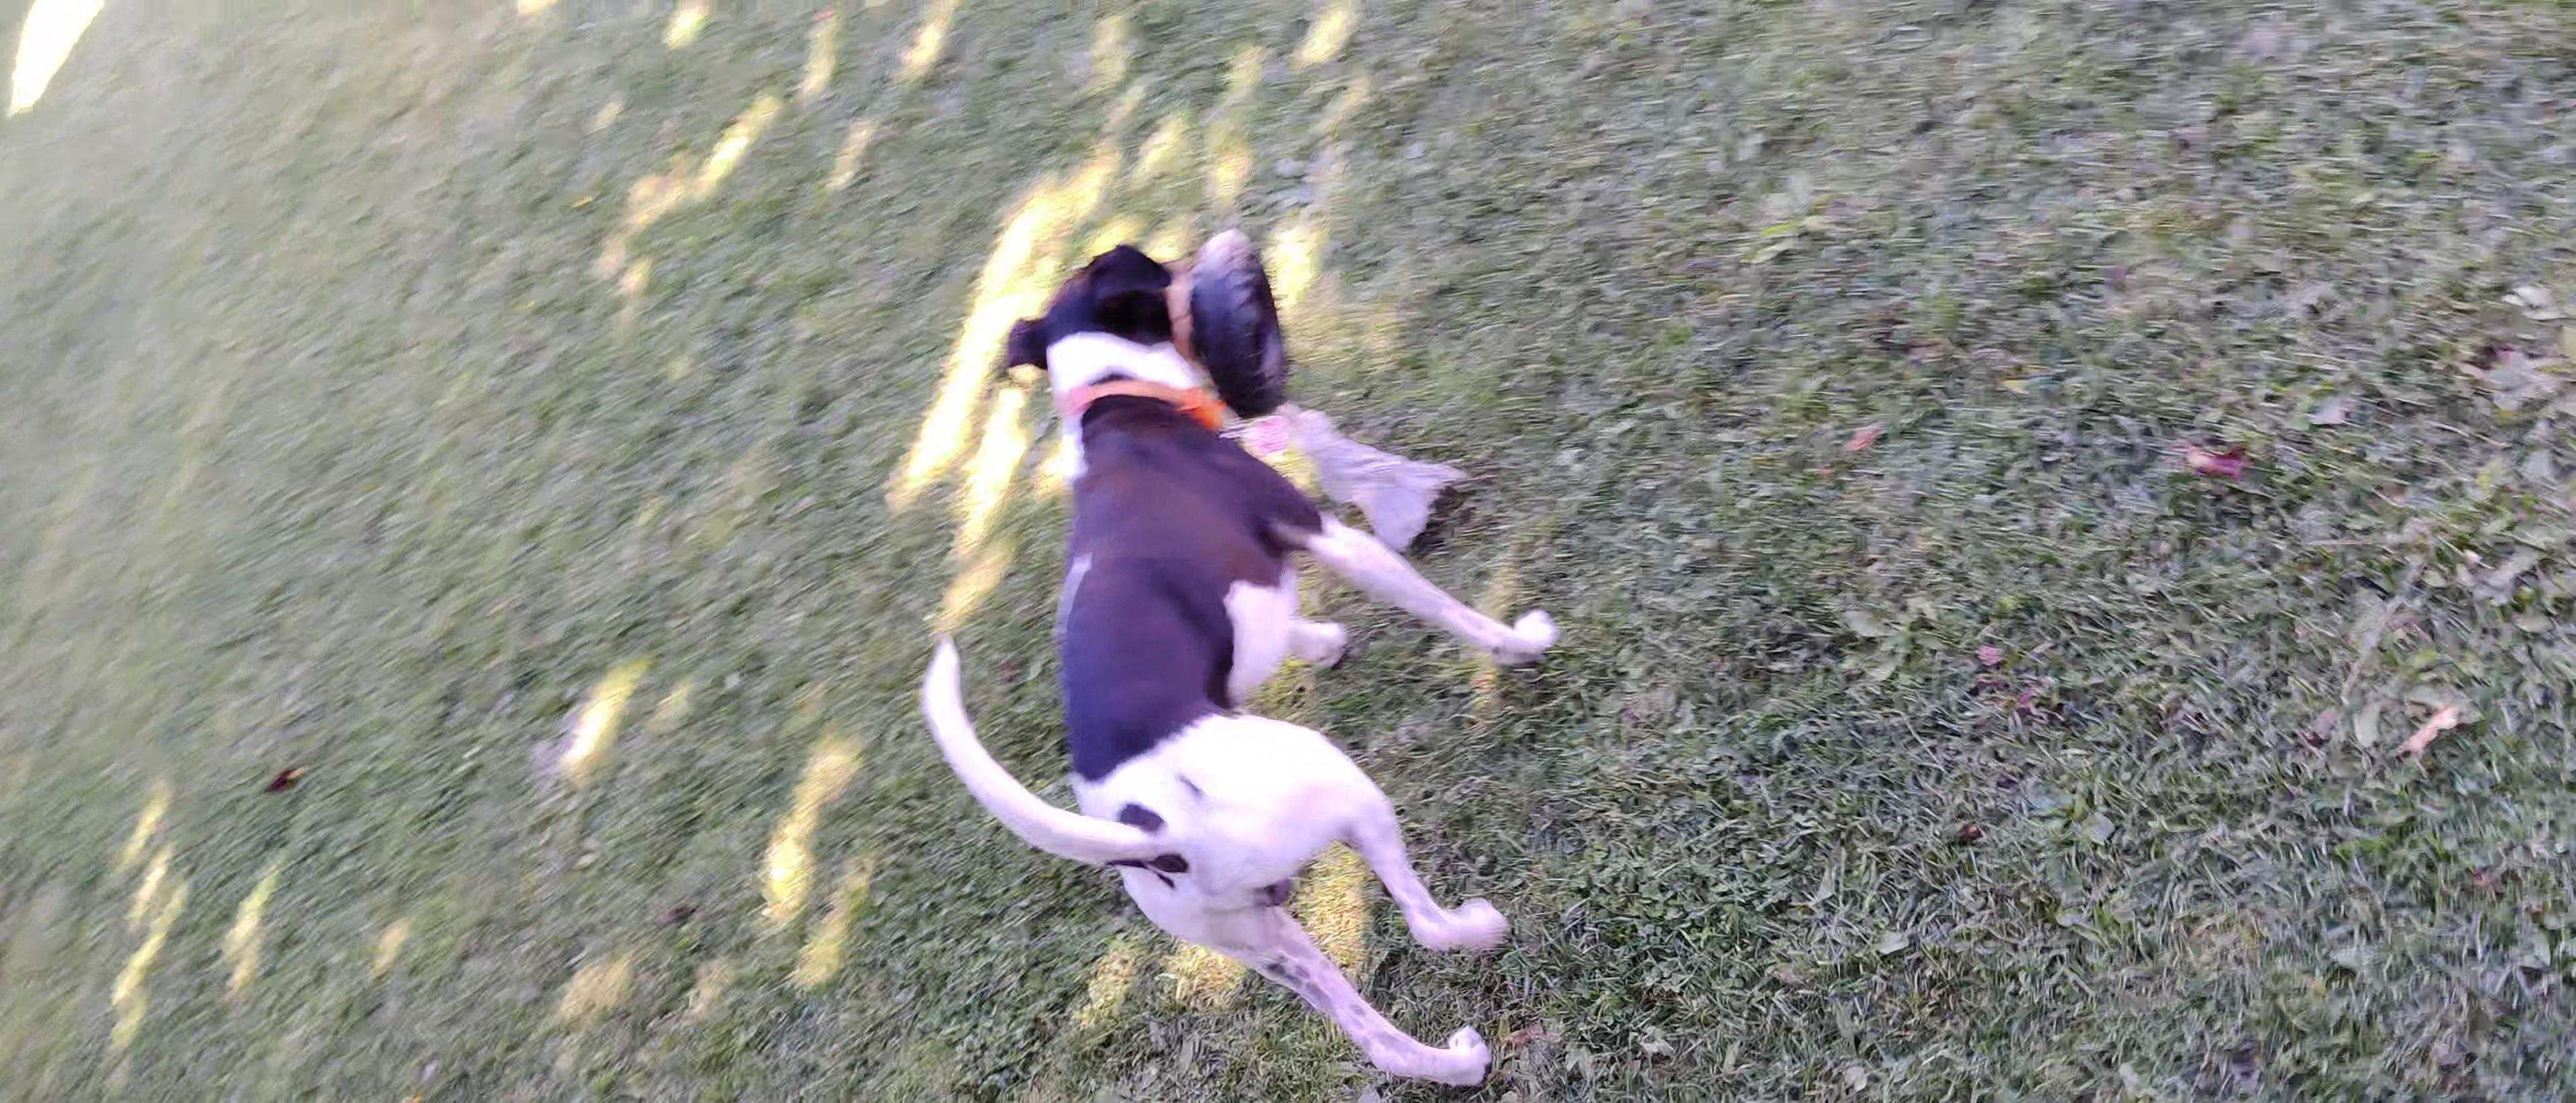Dog: (907, 227, 1567, 1095)
